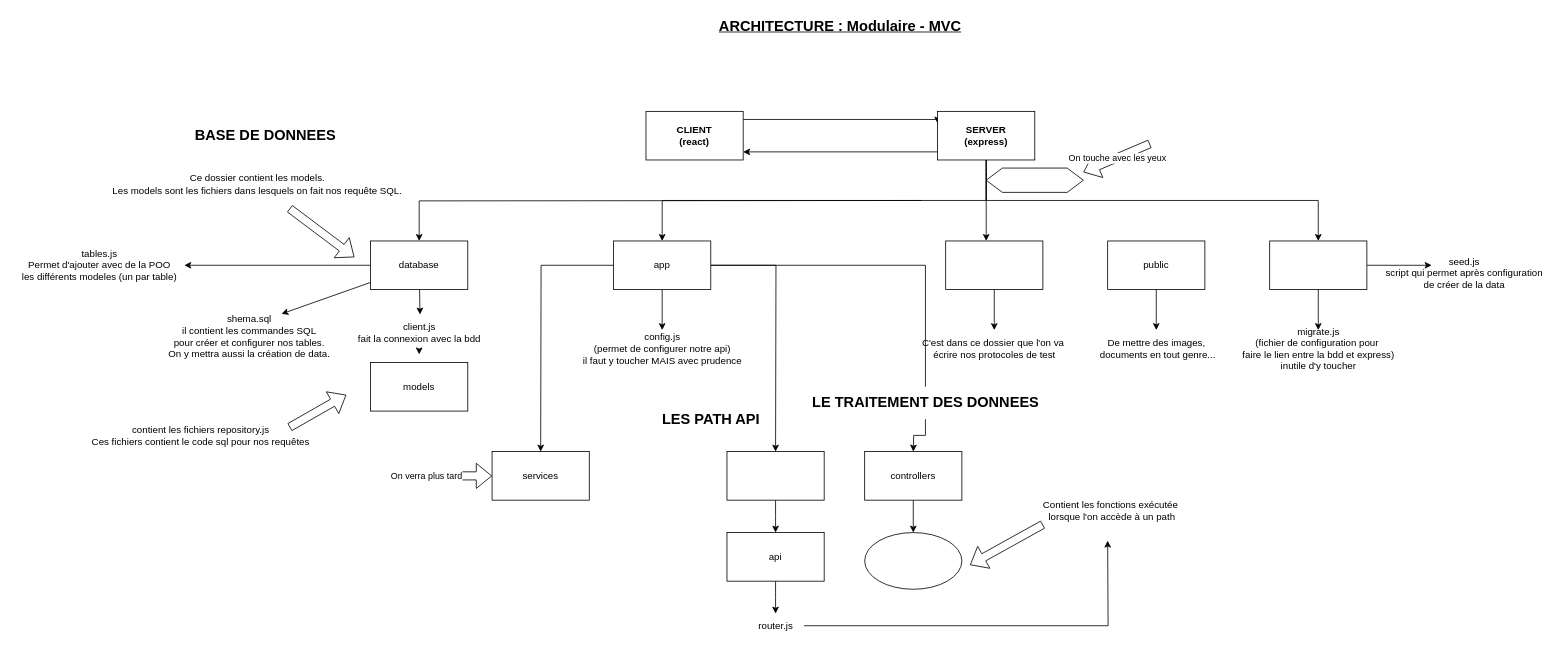
Image size: 1567x651. Some labels were removed from this diagram. The centre of each missing label's shape, as x and y in pixels:
bin: the point at 1318,265
index.js: the point at 1034,179
routers: the point at 775,475
tests: the point at 994,265
xxxActions.js: the point at 913,560
